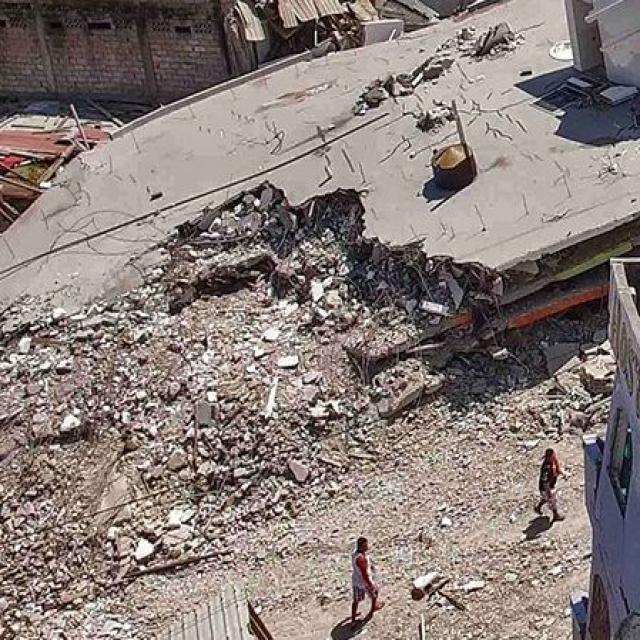collapsed_building: (0, 48, 630, 558)
